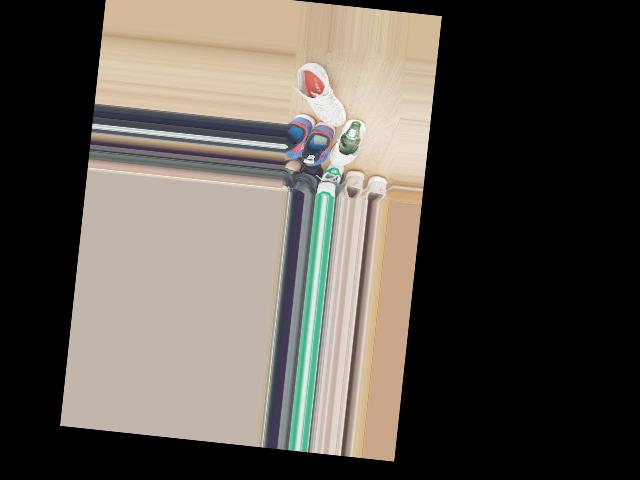beer: (338, 119, 362, 155)
